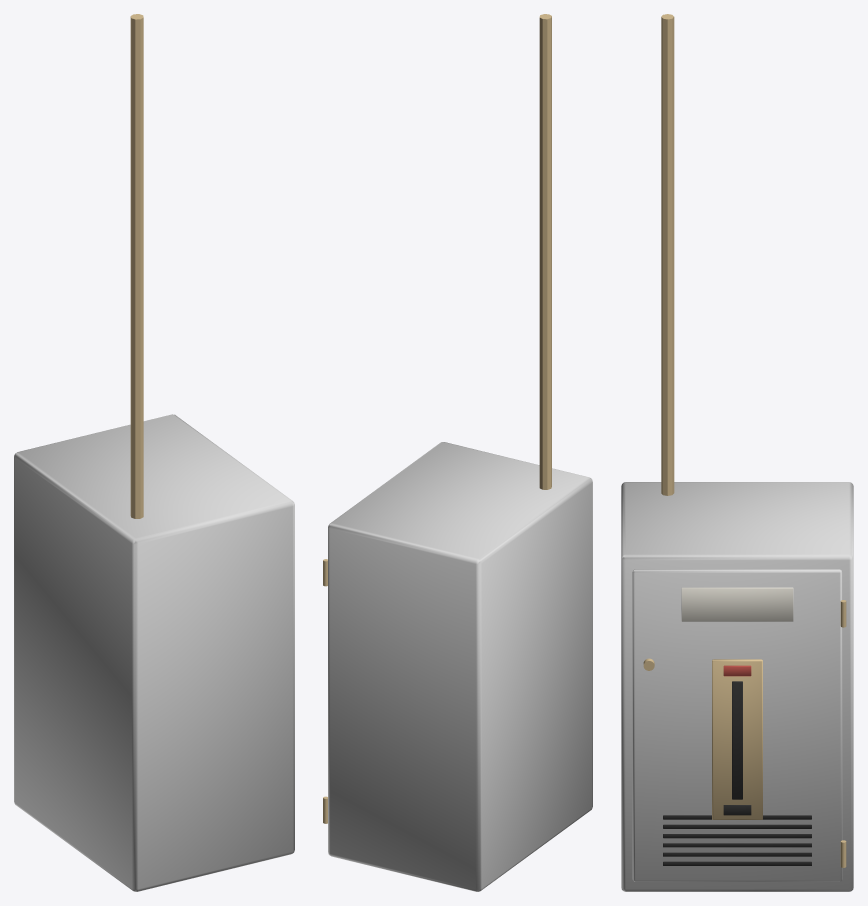
Rendered from Study_Breaker.fbx.
The picture shows the model from 3 angles, left to right: view 1: azimuth 30°, elevation 25°; view 2: azimuth 150°, elevation 25°; view 3: azimuth 270°, elevation 25°; orthographic projection. The views are drawn at different scales.
Parts seen in each view (by area): view 1: Study_Breaker; view 2: Study_Breaker; view 3: Study_Breaker.
Part boxes in pixels (left/top/right/bottom): Study_Breaker: left=14, top=14, right=294, bottom=891; Study_Breaker: left=323, top=14, right=592, bottom=891; Study_Breaker: left=621, top=14, right=853, bottom=891.
Bounding box in the file's own units: 0.407 × 1.93 × 0.5.
